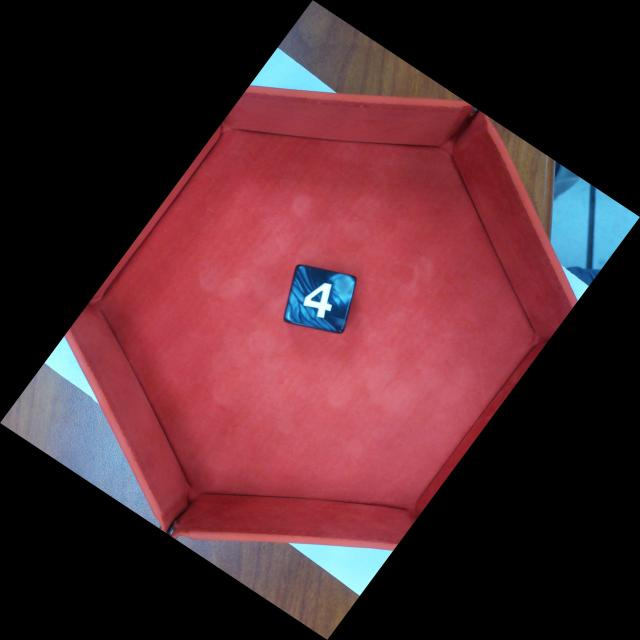dice: (281, 263, 360, 337)
